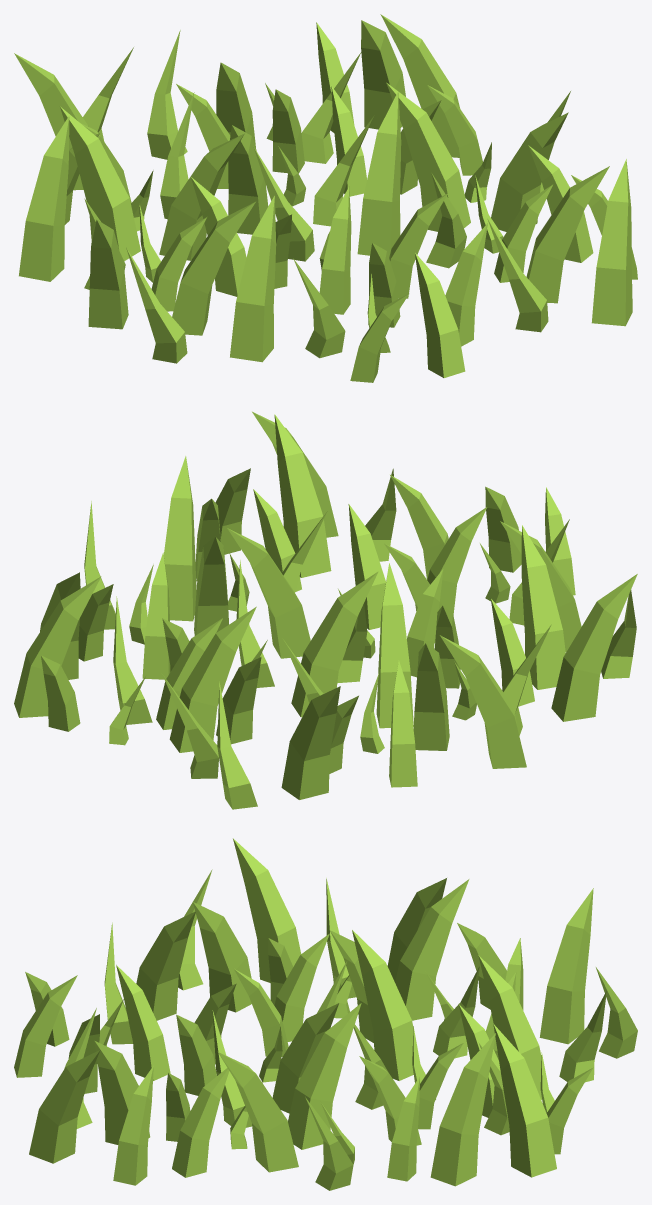
The model's file is shrub1.glb.
3 renders of one model, top to bottom at view 1: azimuth 30°, elevation 25°; view 2: azimuth 150°, elevation 25°; view 3: azimuth 270°, elevation 25°, orthographic. The views are drawn at different scales.
Parts seen in each view (by area): view 1: Shrub.001; view 2: Shrub.001; view 3: Shrub.001.
Boxes of the visible parts, x1,y1,x2,y2 form: Shrub.001: (14, 14, 637, 382); Shrub.001: (14, 411, 637, 809); Shrub.001: (14, 838, 637, 1190).
Size of the model in its own units: 1.26 by 0.3053 by 1.41.
Materials: 1 (1 with a texture image).
